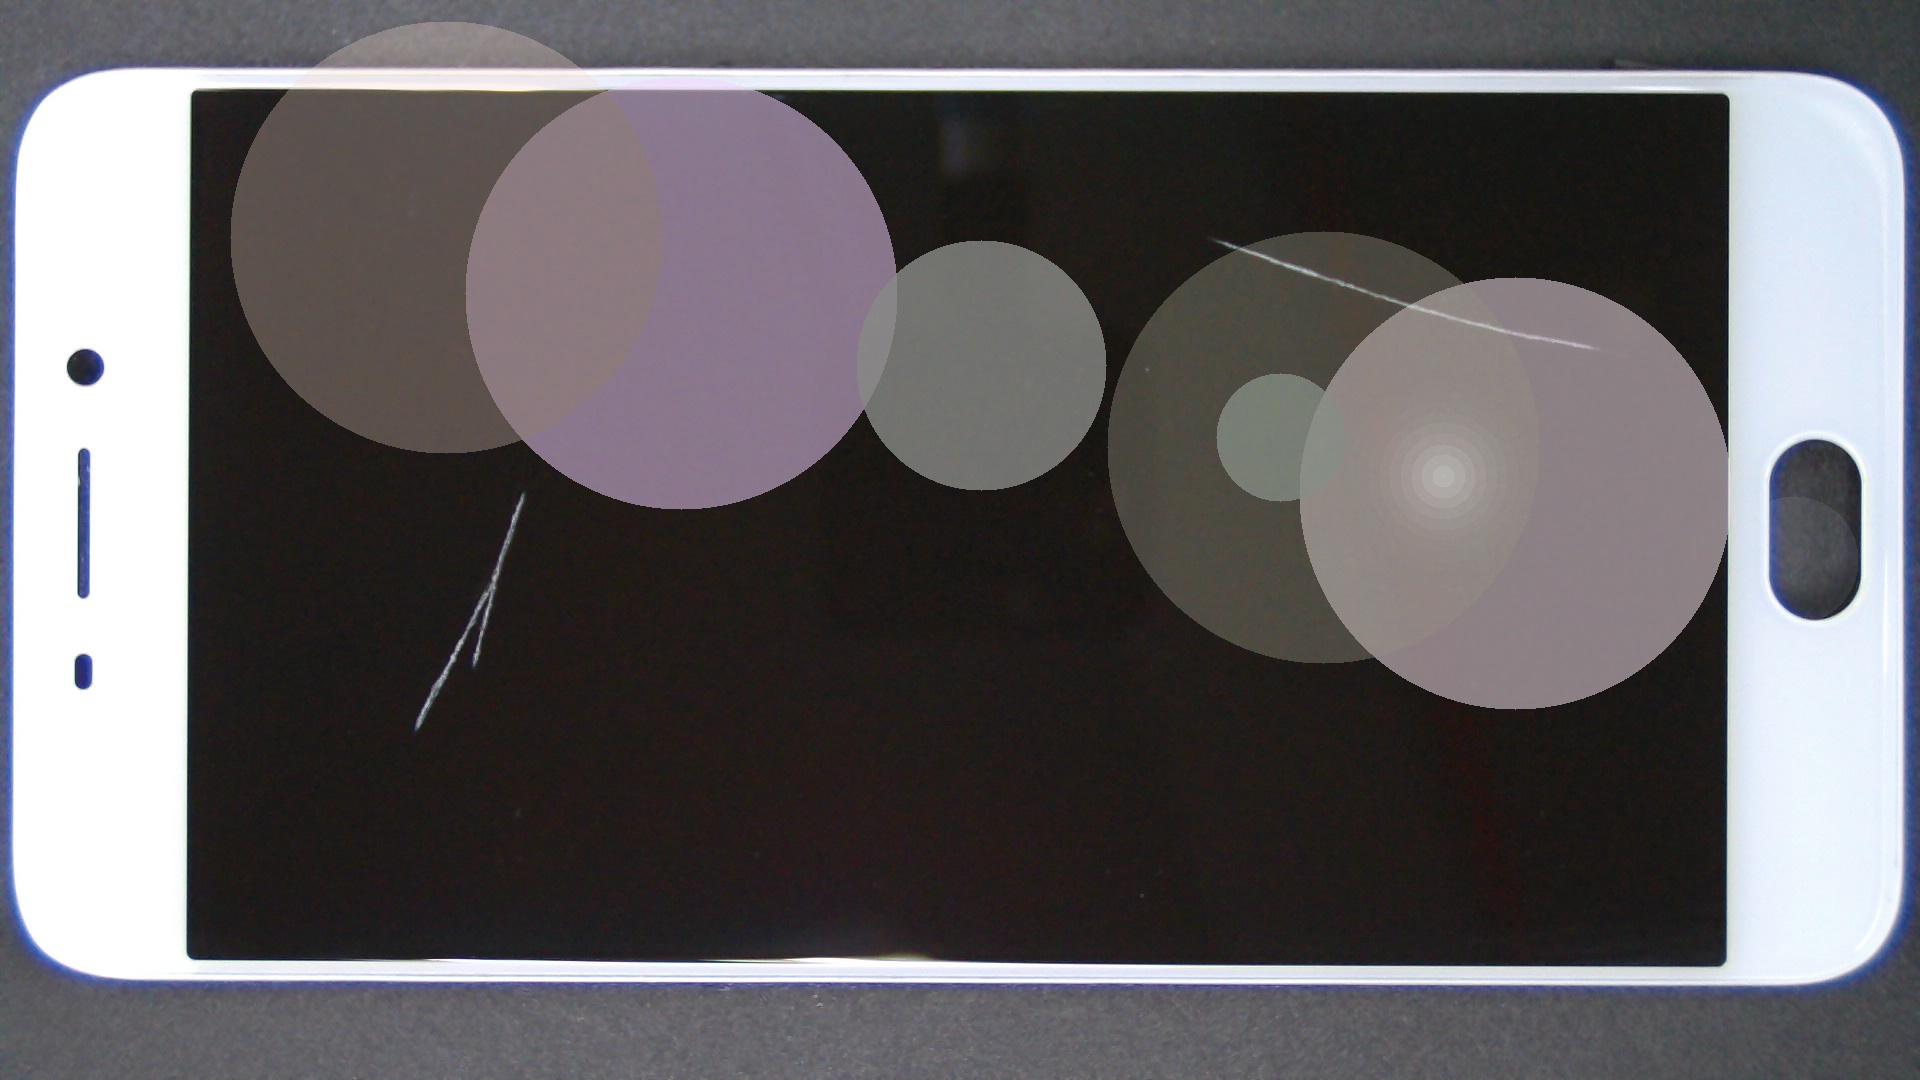oil: (608, 119, 1822, 357), (262, 245, 782, 738)
